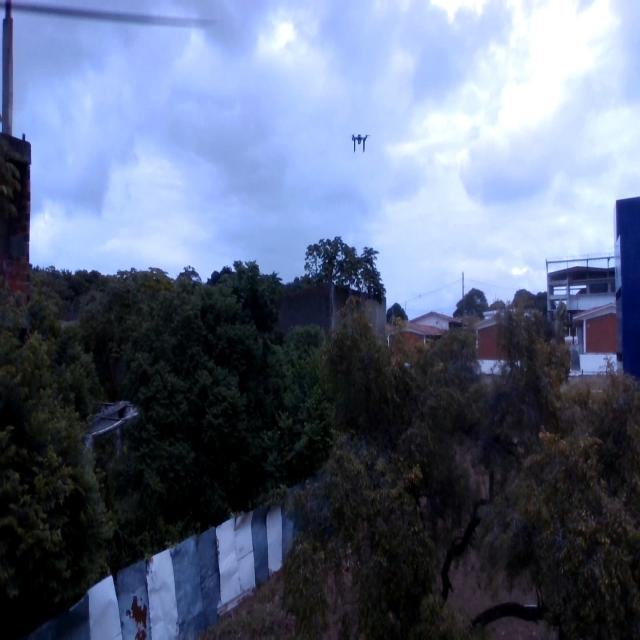-uav-: (348, 126, 370, 158)
